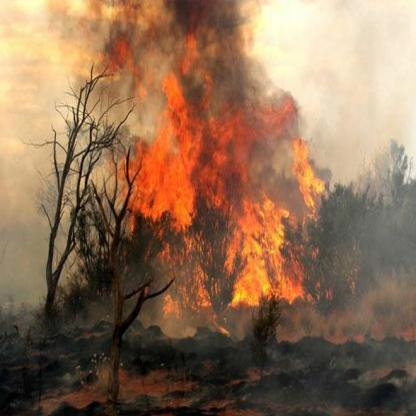fire: (87, 5, 323, 304)
